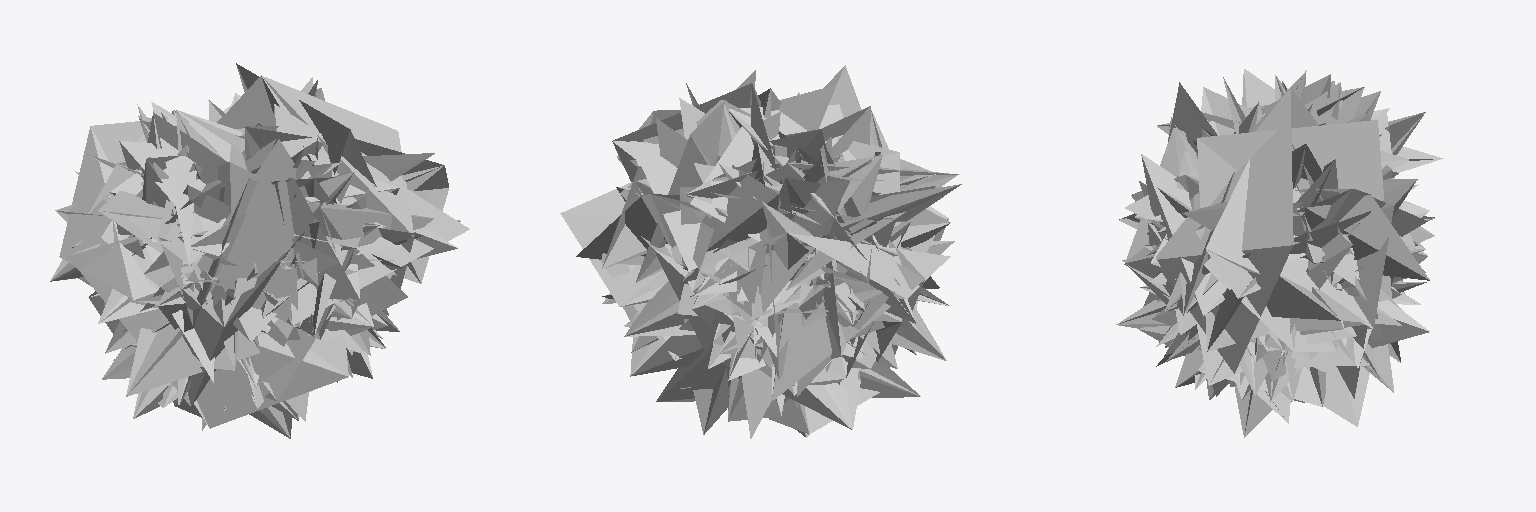
Rendered from death0.obj.
3 renders of one model, left to right at view 1: azimuth 30°, elevation 25°; view 2: azimuth 150°, elevation 25°; view 3: azimuth 270°, elevation 25°, orthographic.
Parts seen in each view (by area): view 1: Robobot_Cube.003; view 2: Robobot_Cube.003; view 3: Robobot_Cube.003.
Boxes of the visible parts, <box> form: Robobot_Cube.003: <box>50,63,469,438</box>; Robobot_Cube.003: <box>560,65,961,438</box>; Robobot_Cube.003: <box>1116,69,1443,437</box>.
Size of the model in its own units: 0.018 by 0.0169 by 0.0145.